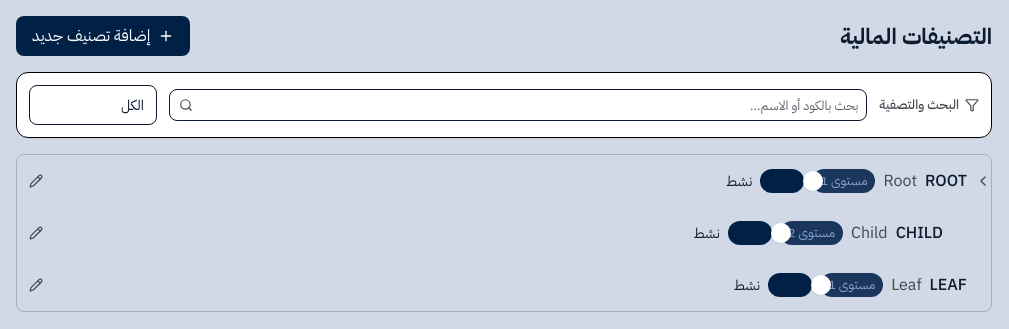
Test: ClassificationsListPage › T006: Search › filters by code
In the search field with placeholder "بحث بالكود أو الاسم...": (518, 105) [169,89,867,121], type "ROOT"
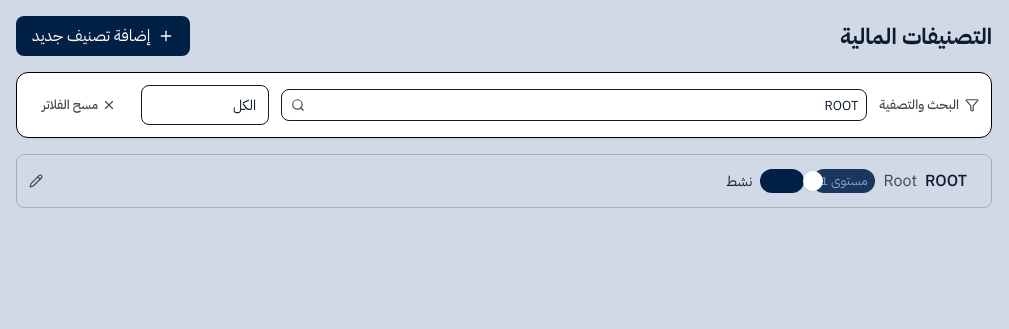
Expected: the text "ROOT" is shown, [925,169,967,193]
Expected: the text "LEAF" is gone
